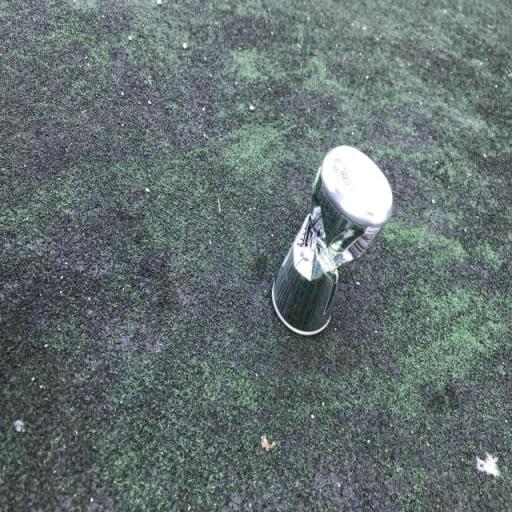metal: (242, 126, 404, 375)
